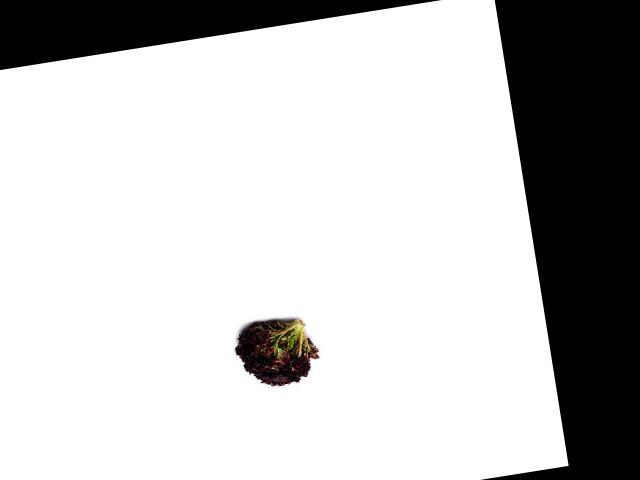lettuce: (227, 309, 319, 395)
